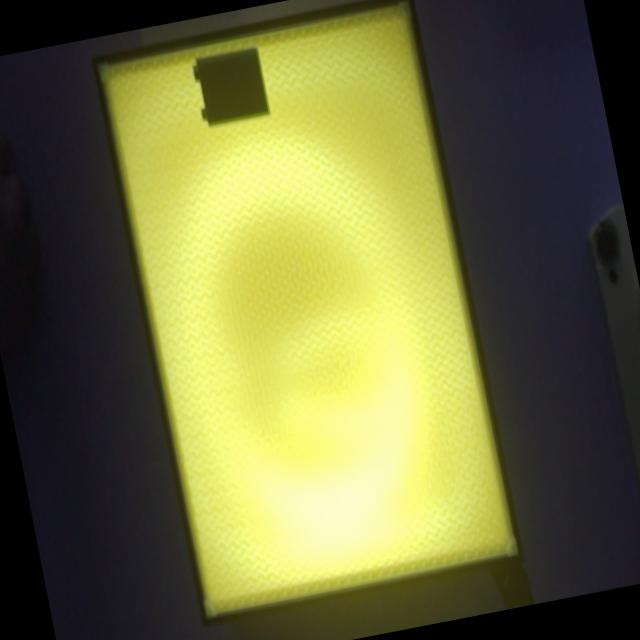bateria: (193, 46, 271, 128)
mesa: (92, 0, 526, 628)
